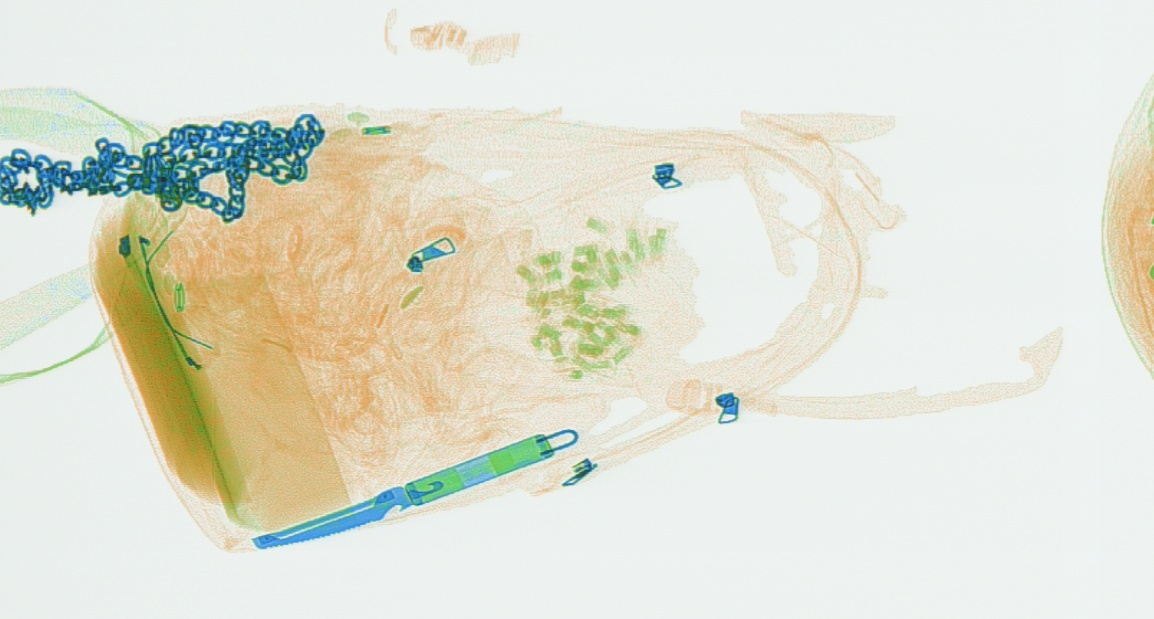firecrackers: (507, 207, 674, 383)
knife: (249, 425, 580, 552)
